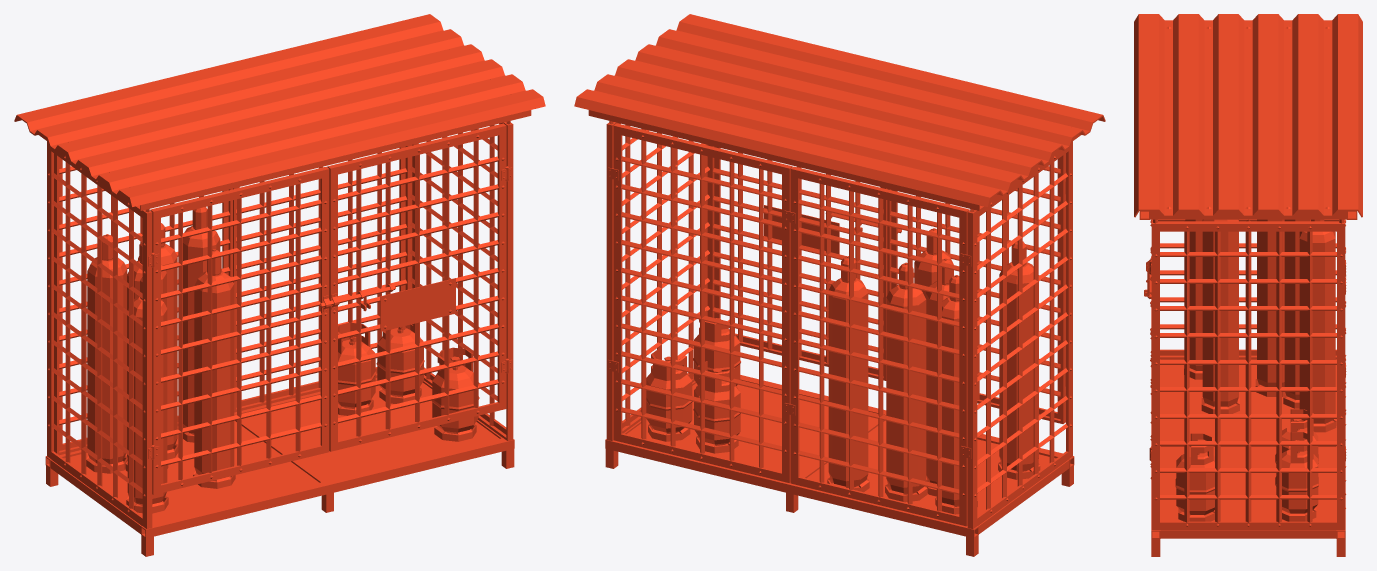
Rendered from SM_Gas_Cage_Full_City.fbx.
3 renders of one model, left to right at view 1: azimuth 30°, elevation 25°; view 2: azimuth 150°, elevation 25°; view 3: azimuth 270°, elevation 25°, orthographic. The views are drawn at different scales.
Parts seen in each view (by area): view 1: SM_Gas_Cage_Full_City; view 2: SM_Gas_Cage_Full_City; view 3: SM_Gas_Cage_Full_City.
Boxes of the visible parts, <box> form: SM_Gas_Cage_Full_City: <box>14,14,545,556</box>; SM_Gas_Cage_Full_City: <box>574,14,1105,556</box>; SM_Gas_Cage_Full_City: <box>1134,14,1362,556</box>.
Size of the model in its own units: 2.68 by 2.28 by 1.32.
